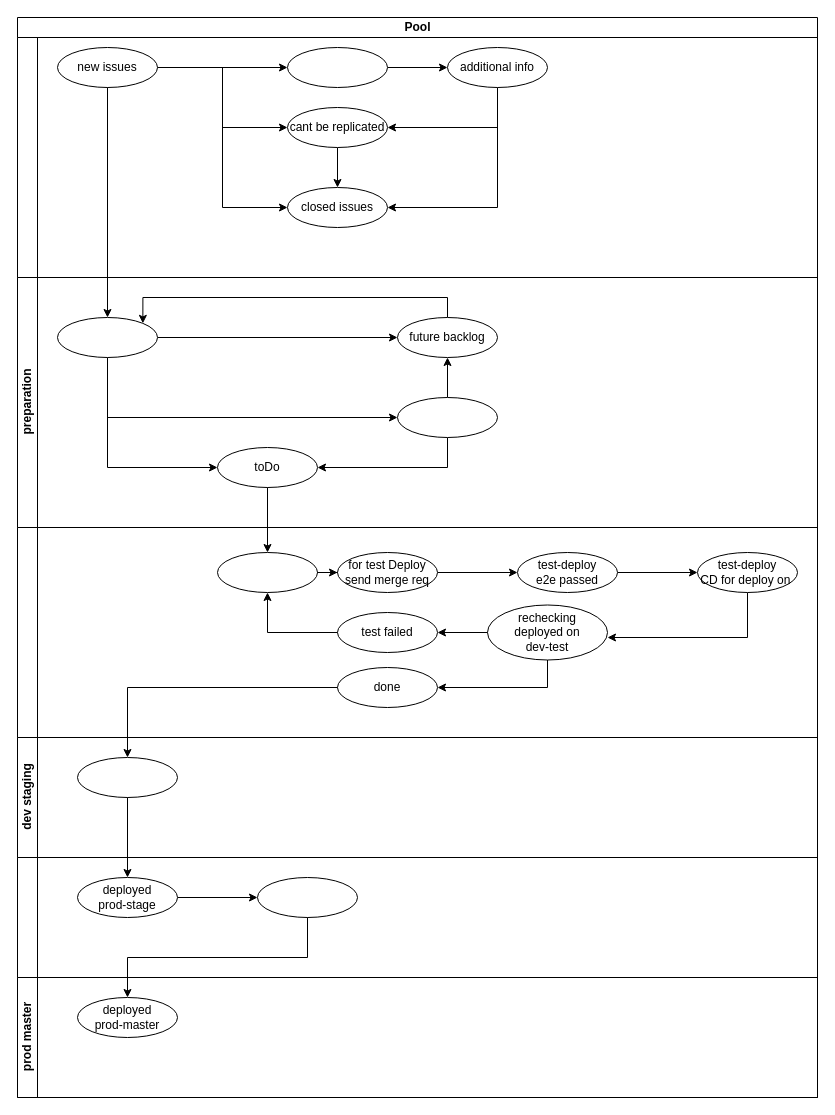
The diagram is 835 pixels wide and 1115 high, and some of its shapes have lost their labels. Each missing label, with the box of its shape:
agregation: (16, 36, 818, 278)
Backlog: (56, 316, 158, 358)
deployed dev-stage: (76, 756, 178, 798)
grumming: (396, 396, 498, 438)
In progress: (216, 552, 318, 592)
need more info: (286, 46, 388, 88)
prod staging: (16, 856, 818, 978)
Realization: (16, 526, 818, 738)
release: (256, 876, 358, 918)
